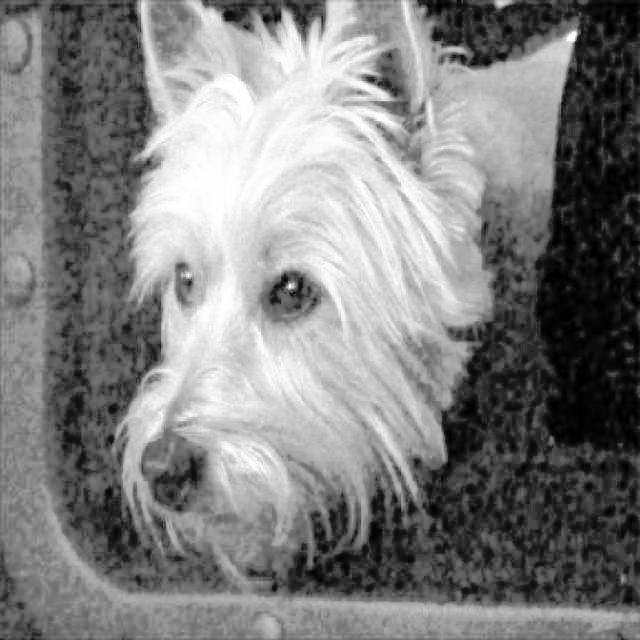Dog: (109, 0, 506, 603)
